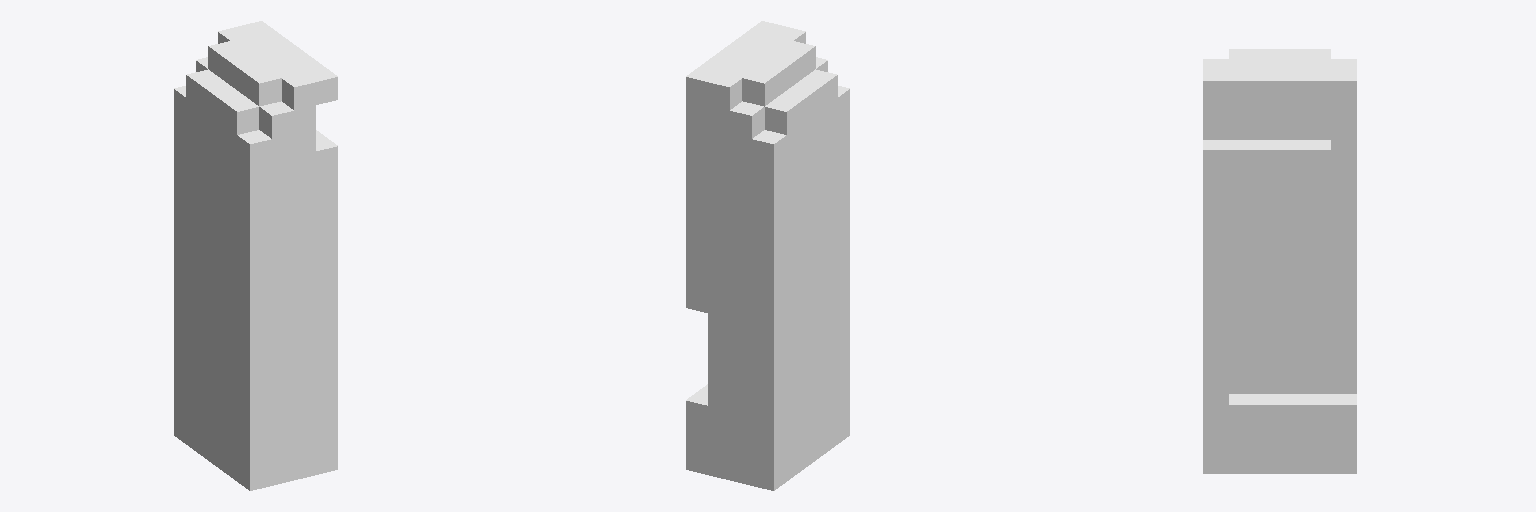
Rendered from civil1-3.obj.
The picture shows the model from 3 angles: view 1: azimuth 30°, elevation 25°; view 2: azimuth 150°, elevation 25°; view 3: azimuth 270°, elevation 25°; orthographic projection.
Parts seen in each view (by area): view 1: object 1; view 2: object 1; view 3: object 1.
Part boxes in pixels (bbox=[...]): object 1: bbox=[174, 21, 337, 490]; object 1: bbox=[686, 21, 849, 490]; object 1: bbox=[1203, 49, 1356, 473].
Size of the model in its own units: 0.4 by 1.7 by 0.6.